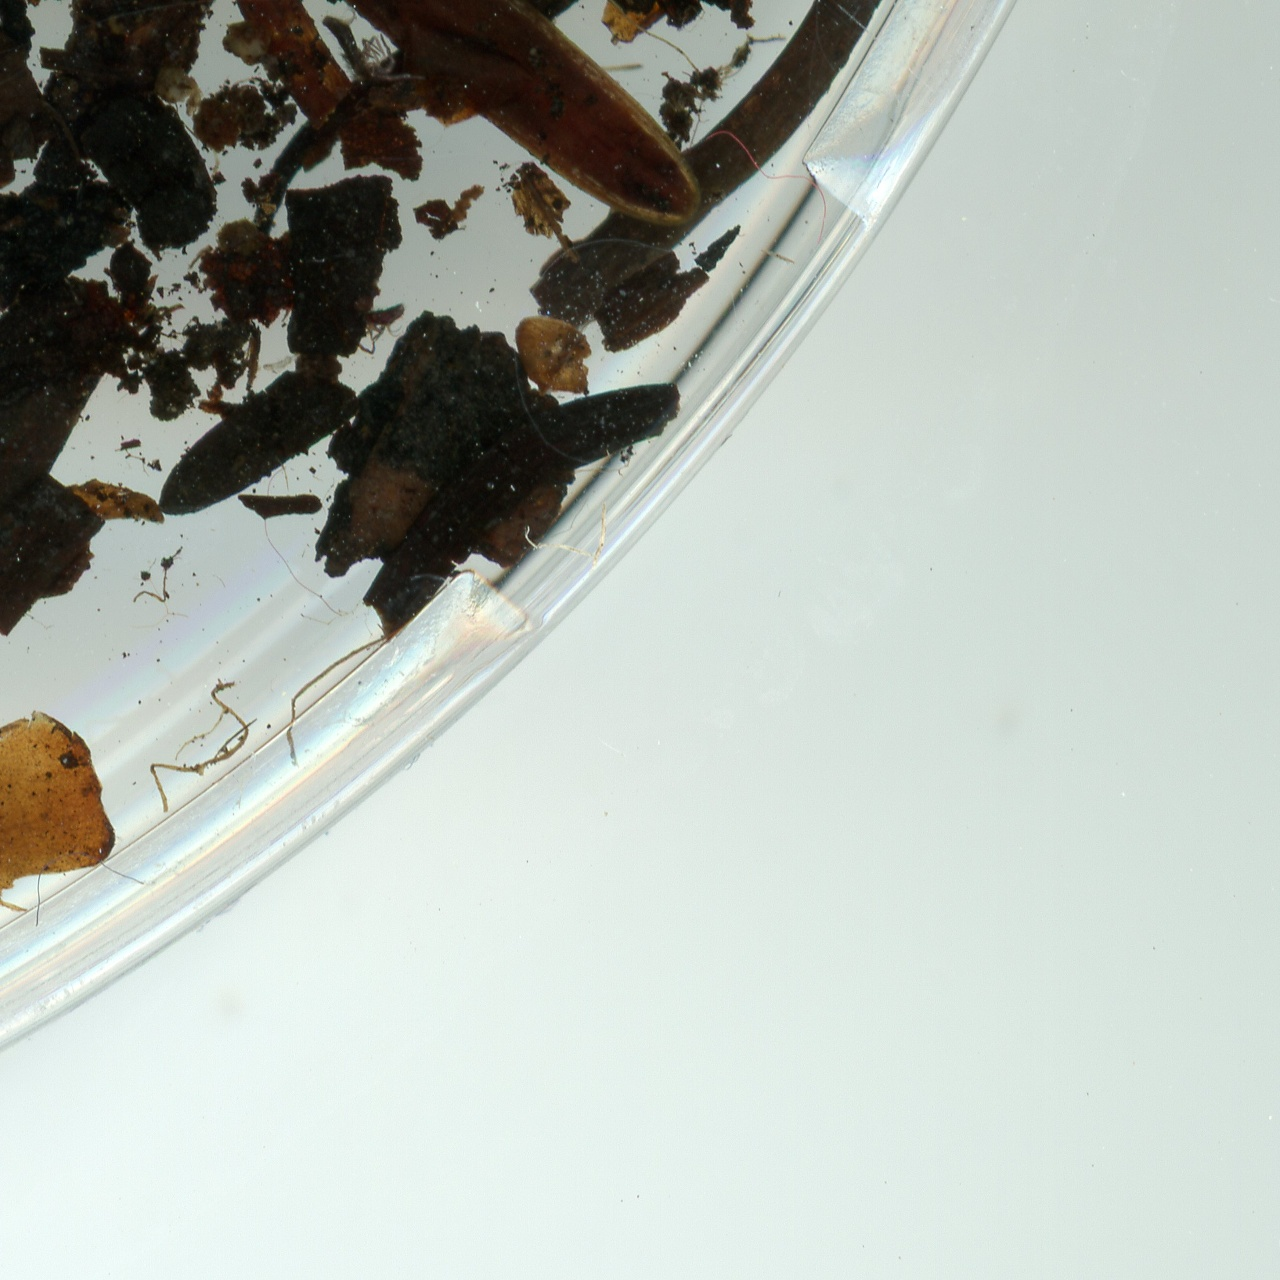arthropod: (320, 13, 422, 90), (353, 305, 407, 340)
